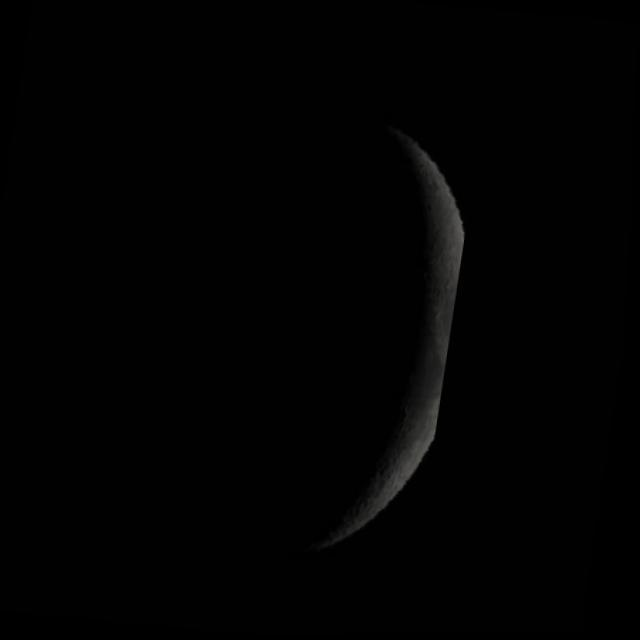moon: (100, 70, 487, 586)
